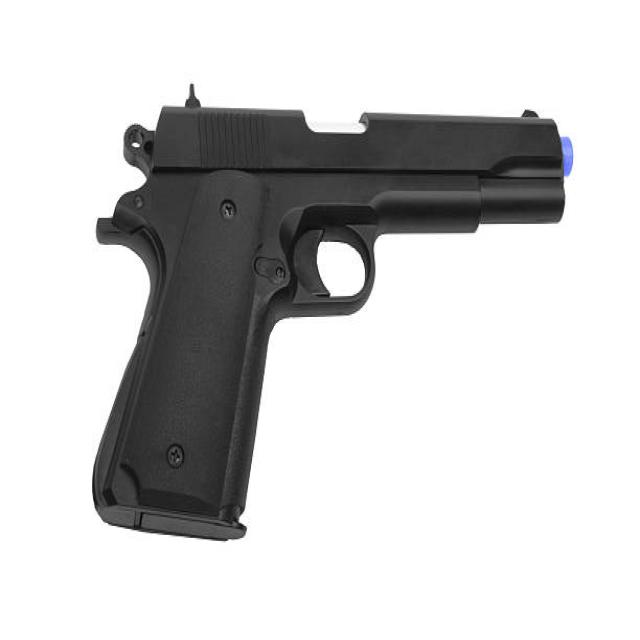pistol: (89, 87, 585, 552)
